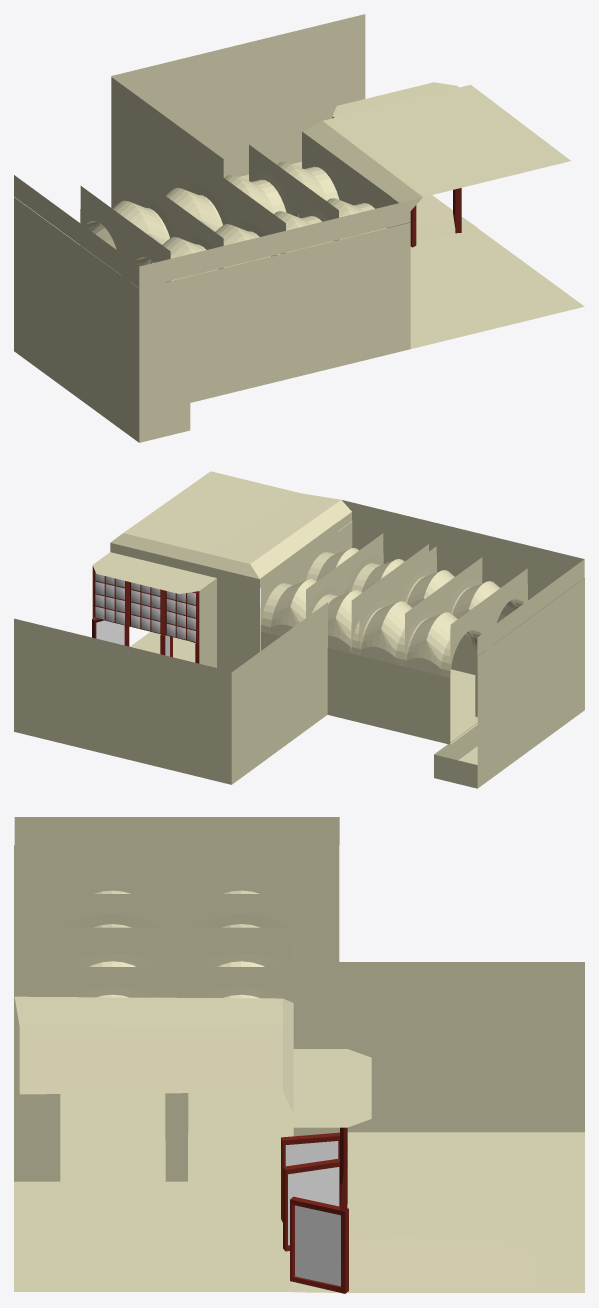
The model's file is room.glb.
The picture shows the model from 3 angles, top to bottom: view 1: azimuth 30°, elevation 25°; view 2: azimuth 150°, elevation 25°; view 3: azimuth 270°, elevation 25°; orthographic projection. The views are drawn at different scales.
Parts seen in each view (by area): view 1: Circle.001, Circle; view 2: Circle.001, Circle, Circle.004; view 3: Circle.001, Circle, Circle.004, Circle.002, Circle.003.
Boxes of the visible parts, x1=… form: Circle.001: x1=14, y1=14, x2=584, y2=442; Circle: x1=80, y1=131, x2=392, y2=288; Circle.001: x1=14, y1=471, x2=584, y2=788; Circle: x1=260, y1=522, x2=527, y2=744; Circle.004: x1=92, y1=618, x2=129, y2=646; Circle.001: x1=14, y1=817, x2=584, y2=1292; Circle: x1=59, y1=860, x2=294, y2=1181; Circle.004: x1=290, y1=1196, x2=348, y2=1293; Circle.002: x1=283, y1=1158, x2=339, y2=1251; Circle.003: x1=281, y1=1132, x2=339, y2=1222.
Size of the model in its own units: 13.8 by 5.19 by 11.75.
